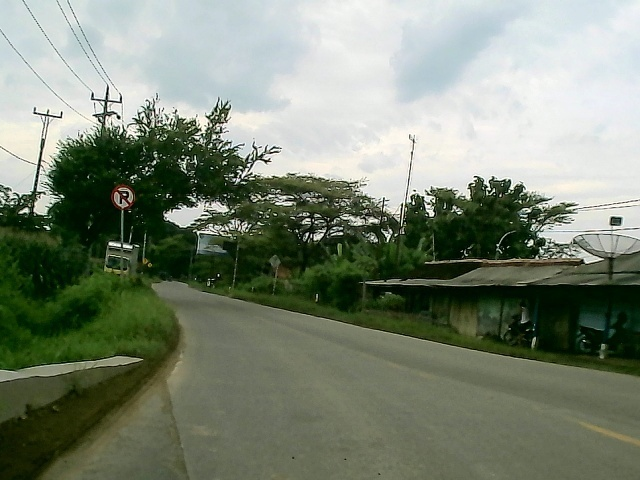Dilarang parkir: (108, 184, 136, 212)
